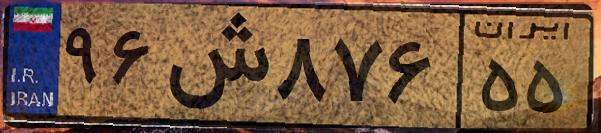5: (475, 38, 525, 113), (525, 38, 570, 115)
6: (385, 28, 445, 110), (110, 28, 158, 98)
7: (330, 28, 385, 110)
8: (270, 28, 330, 110)
9: (57, 26, 110, 100)
ش: (158, 12, 270, 120)
